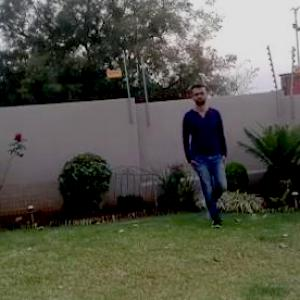follow: (190, 77, 233, 232)
